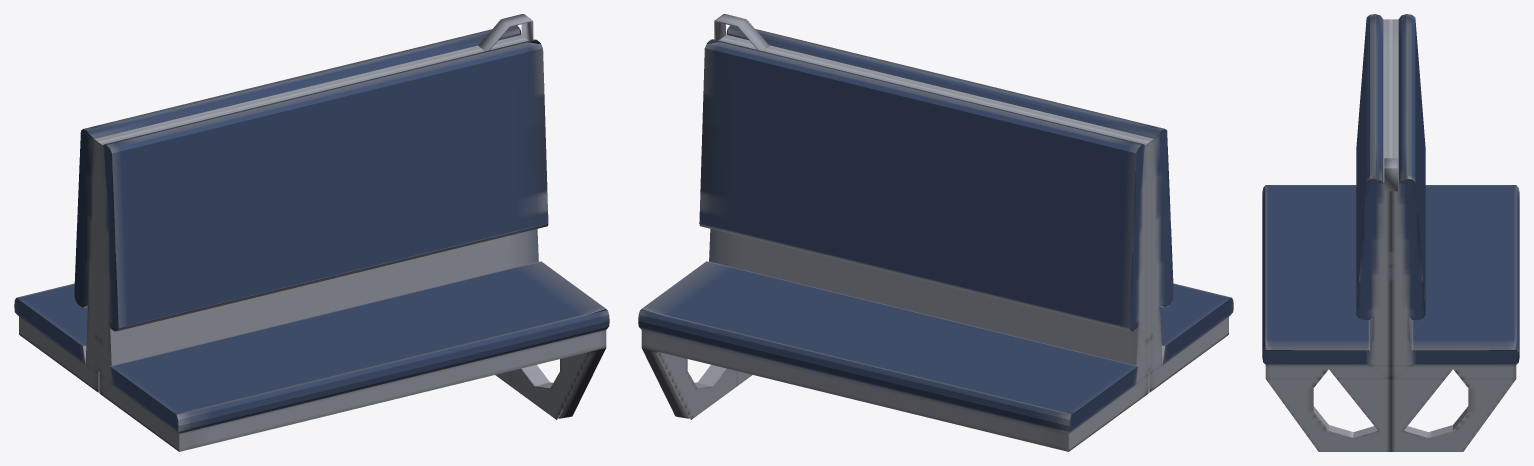
The model's file is seat double side.obj.
3 renders of one model, left to right at view 1: azimuth 30°, elevation 25°; view 2: azimuth 150°, elevation 25°; view 3: azimuth 270°, elevation 25°, orthographic. The views are drawn at different scales.
Visible parts, largest first — view 1: Seat_Cube.007; view 2: Seat_Cube.007; view 3: Seat_Cube.007.
Boxes of the visible parts, x1,y1,x2,y2 form: Seat_Cube.007: (14, 14, 609, 451); Seat_Cube.007: (638, 14, 1233, 451); Seat_Cube.007: (1262, 14, 1519, 451).
Bounding box in the file's own units: 0.8496 × 0.6855 × 0.5591.
